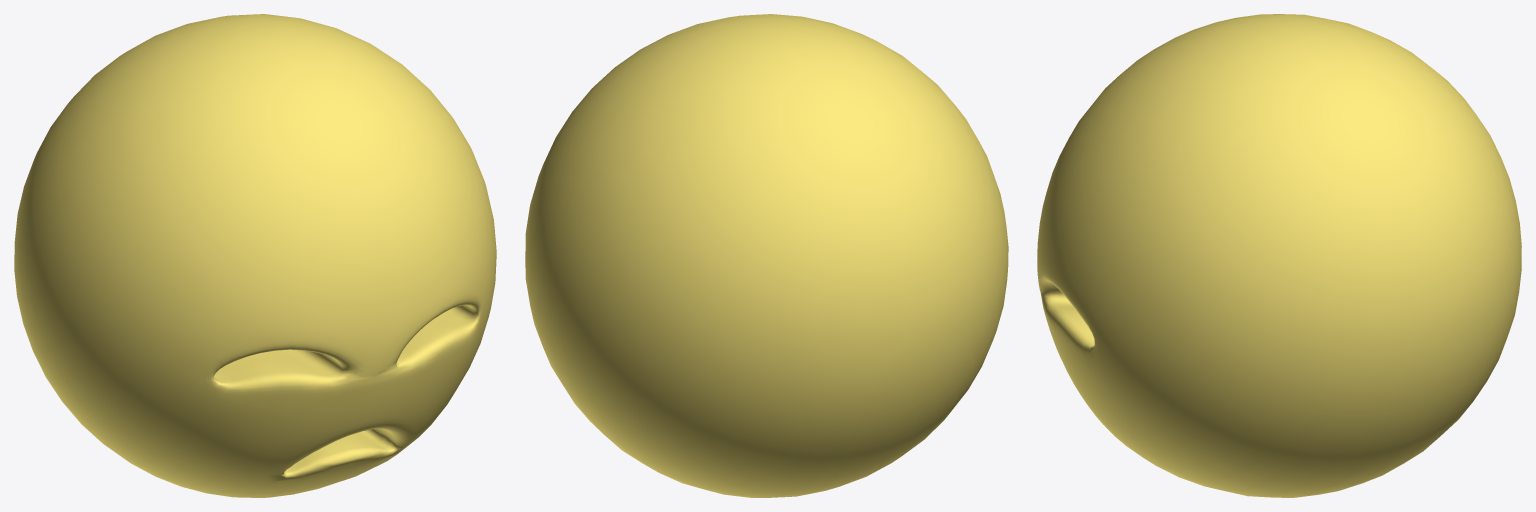
File: 84_disappointed.glb
The picture shows the model from 3 angles, left to right: view 1: azimuth 30°, elevation 25°; view 2: azimuth 150°, elevation 25°; view 3: azimuth 270°, elevation 25°; orthographic projection.
Visible parts, largest first — view 1: Group64891; view 2: Group64891; view 3: Group64891.
Part boxes in pixels (x1,y1,x2,y2): Group64891: (14, 14, 496, 497); Group64891: (525, 14, 1008, 497); Group64891: (1037, 14, 1521, 497).
Size of the model in its own units: 0.5988 by 0.6008 by 0.5998.
